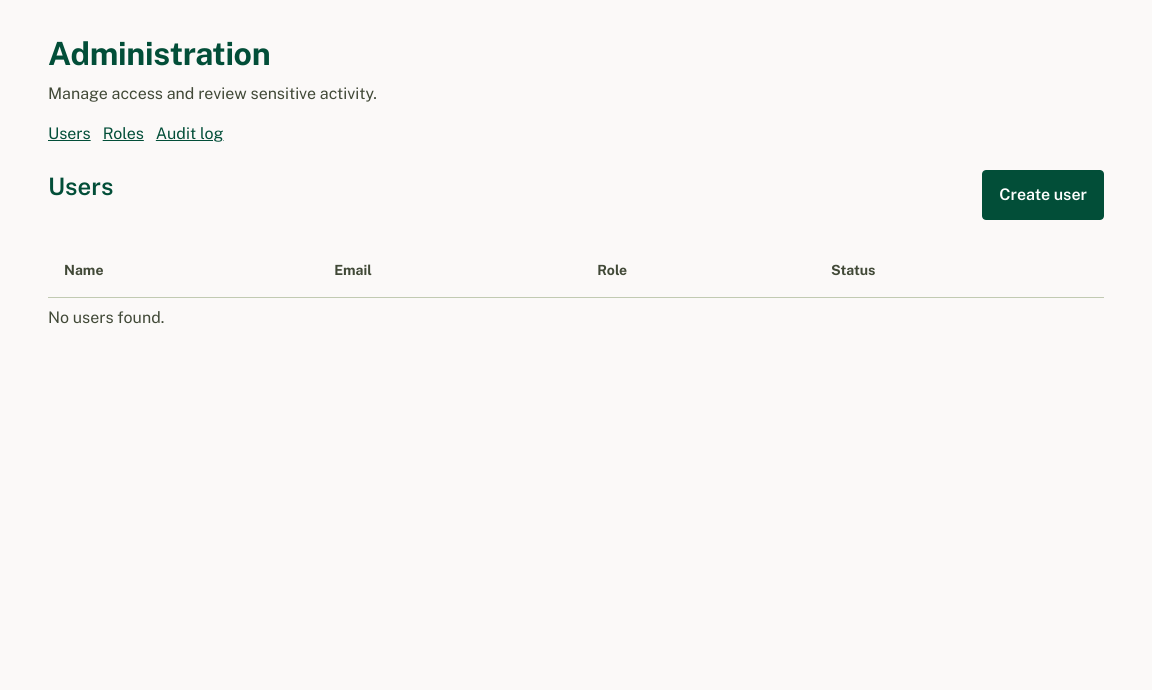
Test case: administration › shows save errors and retains the form values
The image size is (1152, 690).
Click the button "Create user". click: (1043, 195)
box: [982,170,1104,220]
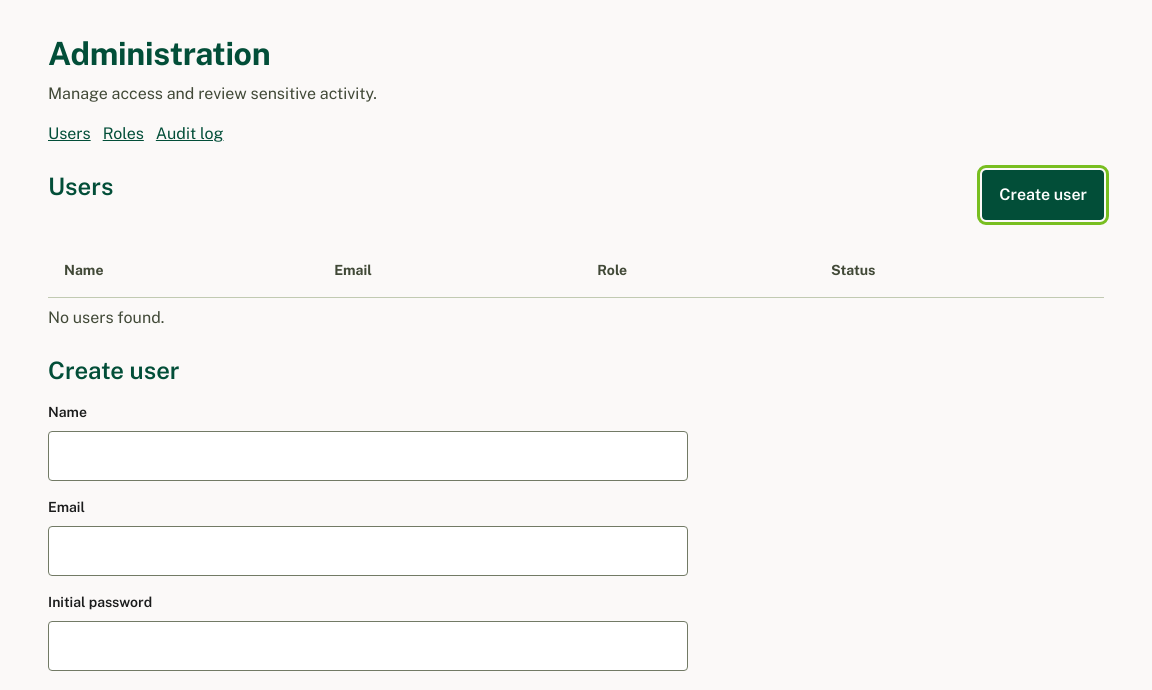
Type "Duplicate" into the field labelled "Name". click: (368, 456)
box: [48,431,688,481]
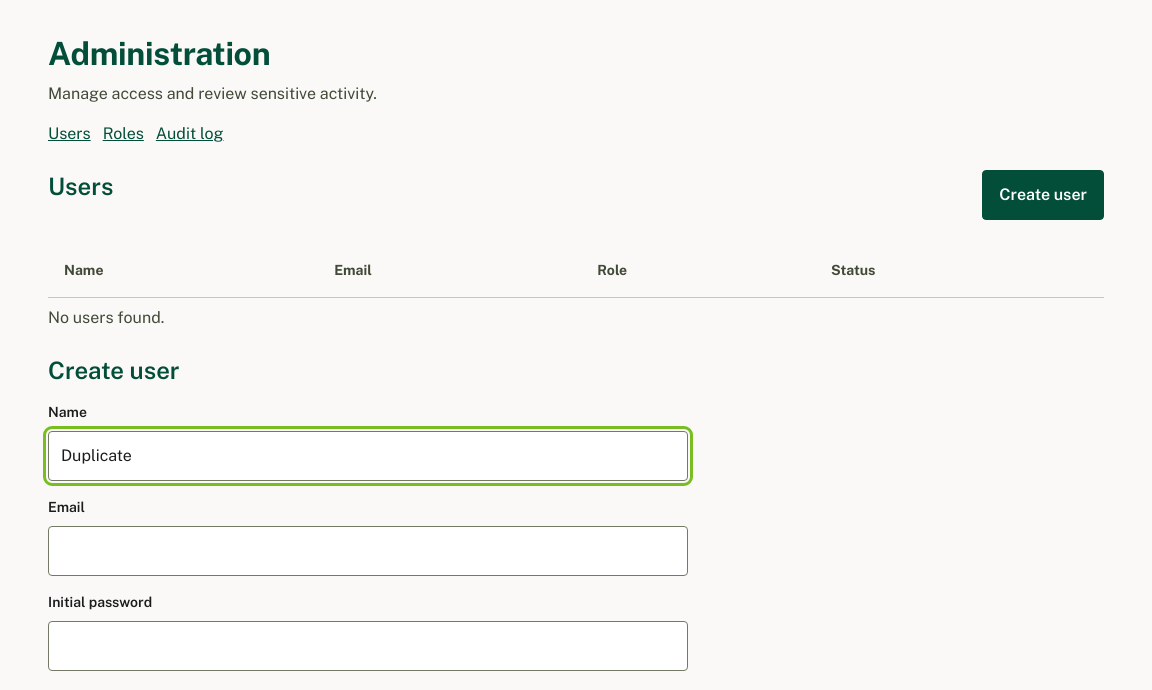
Type "duplicate@example.com" into the field labelled "Email". click: (368, 551)
box: [48,526,688,576]
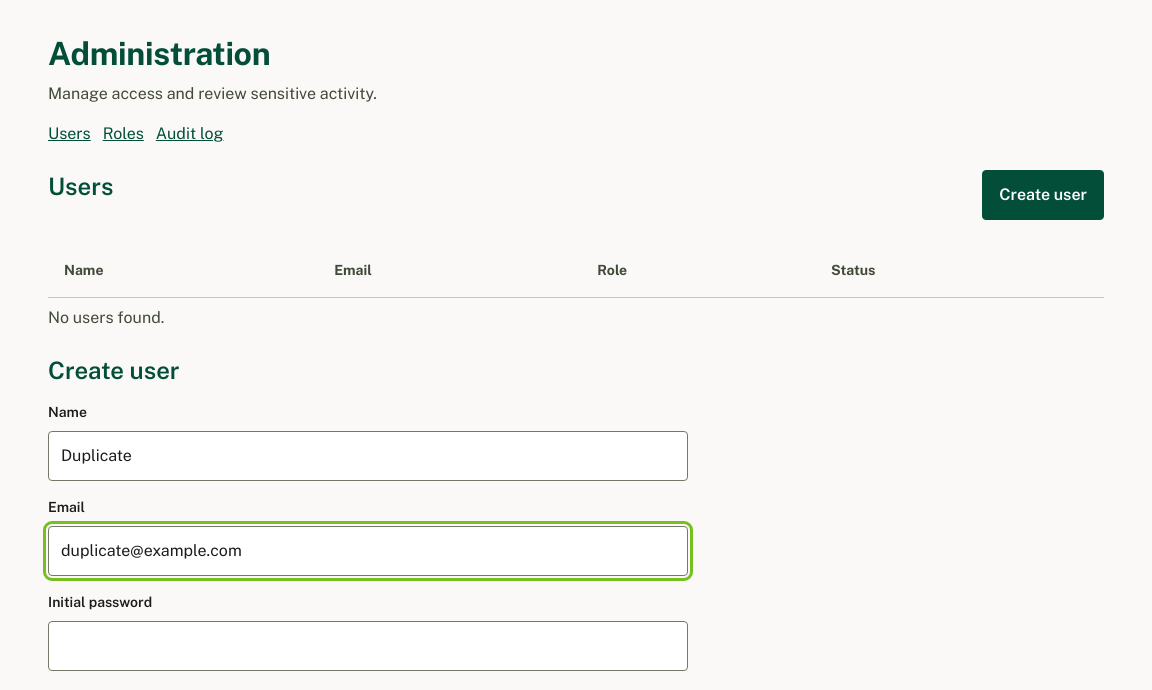
Type "Strong-password-123" into the password field labelled "Initial password". click: (368, 646)
box: [48,621,688,671]
(page scrolled)
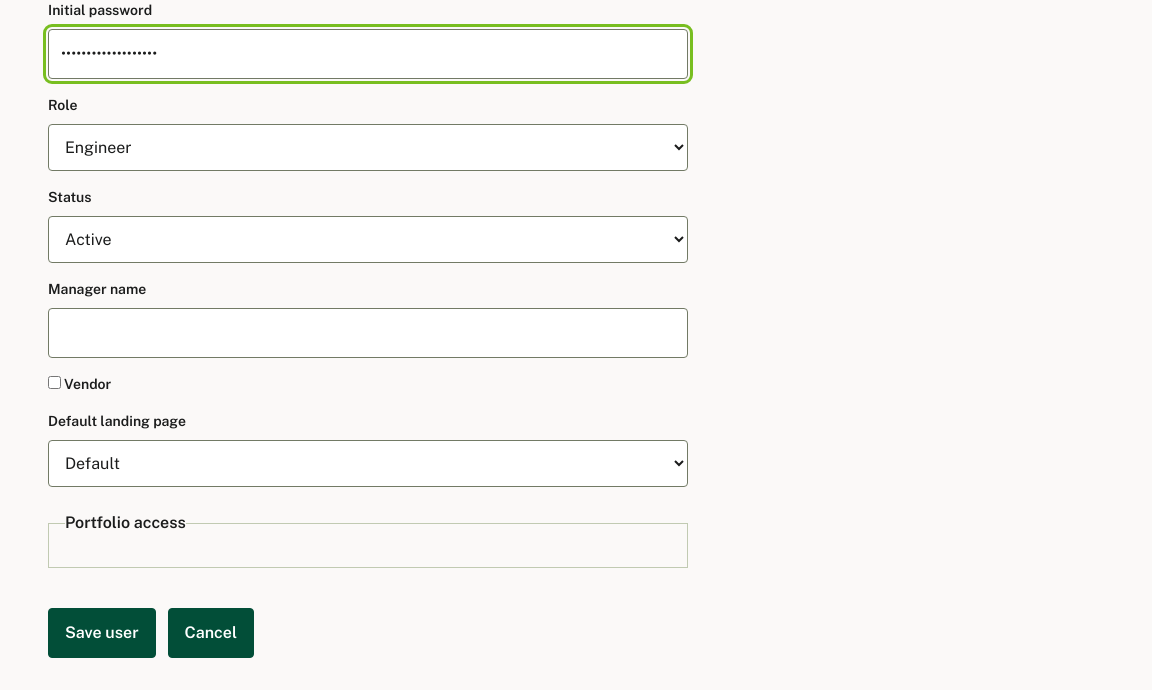
Click the button "Save user". click: (102, 633)
box: [48,608,156,658]
(page scrolled)
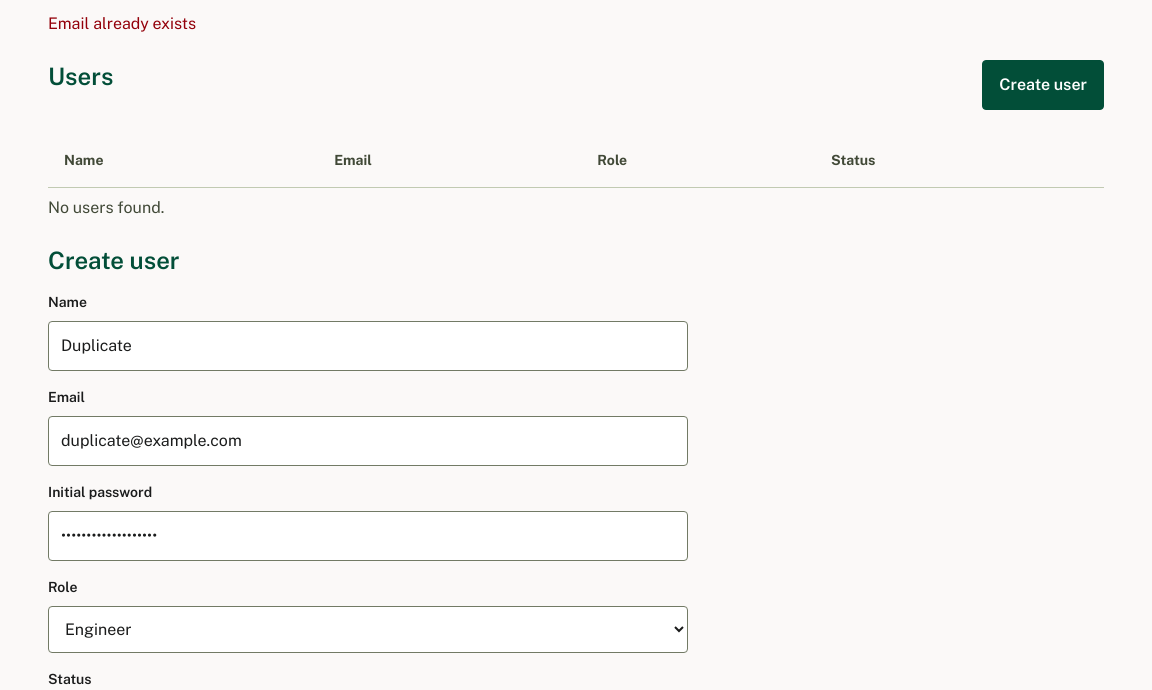
Result: the message reads "Email already exists" at [48,14,196,33]
